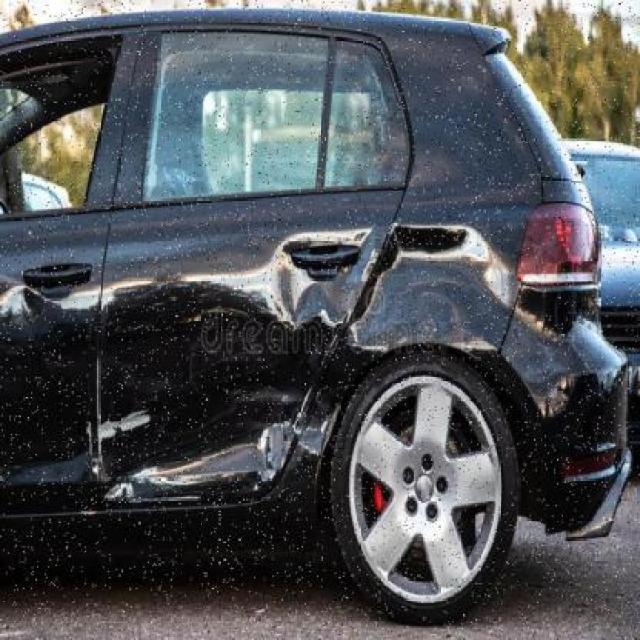doorouter-dent: (101, 208, 363, 498), (0, 218, 100, 500)
quaterpanel-dent: (377, 189, 535, 393)
